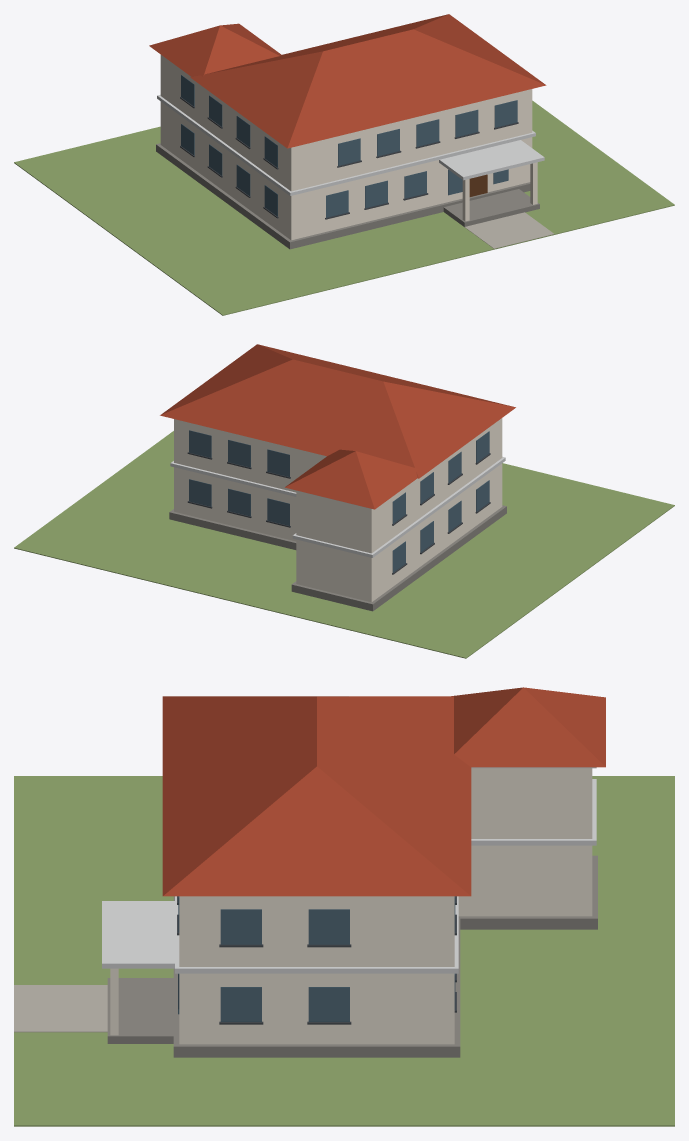
Rendered from adenta.glb.
The picture shows the model from 3 angles, top to bottom: view 1: azimuth 30°, elevation 25°; view 2: azimuth 150°, elevation 25°; view 3: azimuth 270°, elevation 25°; orthographic projection. The views are drawn at different scales.
Visible parts, largest first — view 1: Plot, Roof (×2), Walls, first floor, Walls, ground floor, Adenta 4-bedroom residence, Plinth, Porch roof, Porch, Driveway, Slab, first floor, Wing walls, ground floor, Wing walls, first floor (+1 smaller); view 2: Plot, Roof (×2), Walls, first floor, Walls, ground floor, Adenta 4-bedroom residence, Wing walls, ground floor, Wing walls, first floor, Plinth, Plinth (wing), Slab, first floor; view 3: Plot, Roof (×2), Walls, ground floor, Walls, first floor, Wing walls, ground floor, Wing walls, first floor, Adenta 4-bedroom residence, Plinth, Porch roof, Driveway, Porch, Slab, first floor (+1 smaller).
Part boxes in pixels (left/top/right/bottom): Plot: left=14, top=100, right=674, bottom=315; Roof (×2): left=149, top=14, right=546, bottom=148; Walls, first floor: left=204, top=88, right=532, bottom=191; Walls, ground floor: left=204, top=133, right=532, bottom=240; Adenta 4-bedroom residence: left=157, top=75, right=518, bottom=219; Plinth: left=199, top=175, right=530, bottom=249; Porch roof: left=439, top=140, right=544, bottom=180; Porch: left=443, top=189, right=539, bottom=226; Driveway: left=464, top=212, right=553, bottom=248; Slab, first floor: left=201, top=127, right=535, bottom=195; Wing walls, ground floor: left=160, top=101, right=204, bottom=176; Wing walls, first floor: left=160, top=55, right=204, bottom=127; Plot: left=14, top=431, right=674, bottom=658; Roof (×2): left=160, top=344, right=515, bottom=509; Walls, first floor: left=174, top=418, right=502, bottom=521; Walls, ground floor: left=174, top=463, right=502, bottom=569; Adenta 4-bedroom residence: left=187, top=430, right=490, bottom=574; Wing walls, ground floor: left=296, top=527, right=415, bottom=602; Wing walls, first floor: left=296, top=480, right=415, bottom=553; Plinth: left=169, top=505, right=506, bottom=578; Plinth (wing): left=291, top=569, right=419, bottom=611; Slab, first floor: left=170, top=456, right=505, bottom=525; Plot: left=14, top=776, right=674, bottom=1126; Roof (×2): left=162, top=687, right=605, bottom=896; Walls, ground floor: left=179, top=973, right=454, bottom=1044; Walls, first floor: left=179, top=896, right=454, bottom=966; Wing walls, ground floor: left=458, top=845, right=592, bottom=916; Wing walls, first floor: left=471, top=768, right=592, bottom=838; Adenta 4-bedroom residence: left=177, top=767, right=596, bottom=1024; Plinth: left=173, top=896, right=460, bottom=1057; Porch roof: left=102, top=901, right=174, bottom=968; Driveway: left=14, top=985, right=107, bottom=1032; Porch: left=107, top=978, right=173, bottom=1043; Slab, first floor: left=175, top=896, right=458, bottom=973.
Bounding box in the file's own units: 30 × 9.3 × 24.
